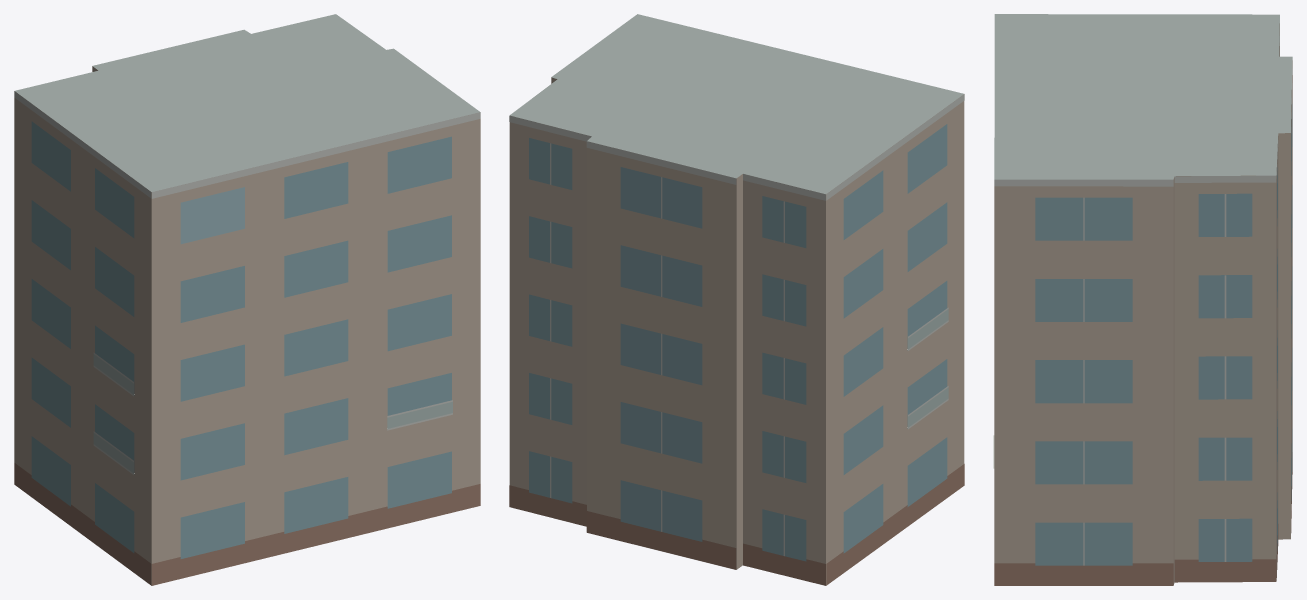
The model's file is survey-upis-32655526.glb.
3 renders of one model, left to right at view 1: azimuth 30°, elevation 25°; view 2: azimuth 150°, elevation 25°; view 3: azimuth 270°, elevation 25°, orthographic. The views are drawn at different scales.
Visible parts, largest first — view 1: survey-upis-32655526.tmp; view 2: survey-upis-32655526.tmp; view 3: survey-upis-32655526.tmp.
Boxes of the visible parts, left/top/right/bottom form: survey-upis-32655526.tmp: left=14, top=14, right=480, bottom=585; survey-upis-32655526.tmp: left=509, top=14, right=964, bottom=585; survey-upis-32655526.tmp: left=993, top=14, right=1292, bottom=585.
Bounding box in the file's own units: 12.63 × 14.4 × 9.62.
